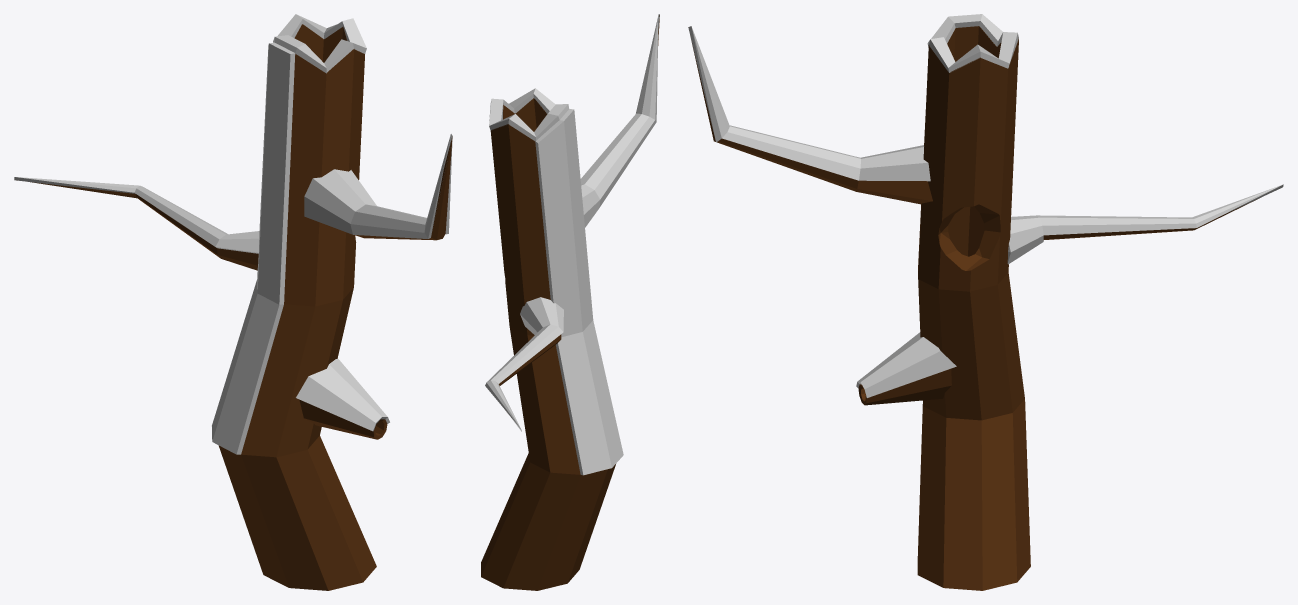
The model's file is Tree_22.fbx.
The picture shows the model from 3 angles, left to right: view 1: azimuth 30°, elevation 25°; view 2: azimuth 150°, elevation 25°; view 3: azimuth 270°, elevation 25°; orthographic projection. The views are drawn at different scales.
Visible parts, largest first — view 1: Tree_22; view 2: Tree_22; view 3: Tree_22.
Boxes of the visible parts, bbox=[...] form: Tree_22: bbox=[14, 14, 452, 590]; Tree_22: bbox=[481, 14, 659, 590]; Tree_22: bbox=[688, 14, 1283, 590].
Size of the model in its own units: 78.16 by 205 by 204.
